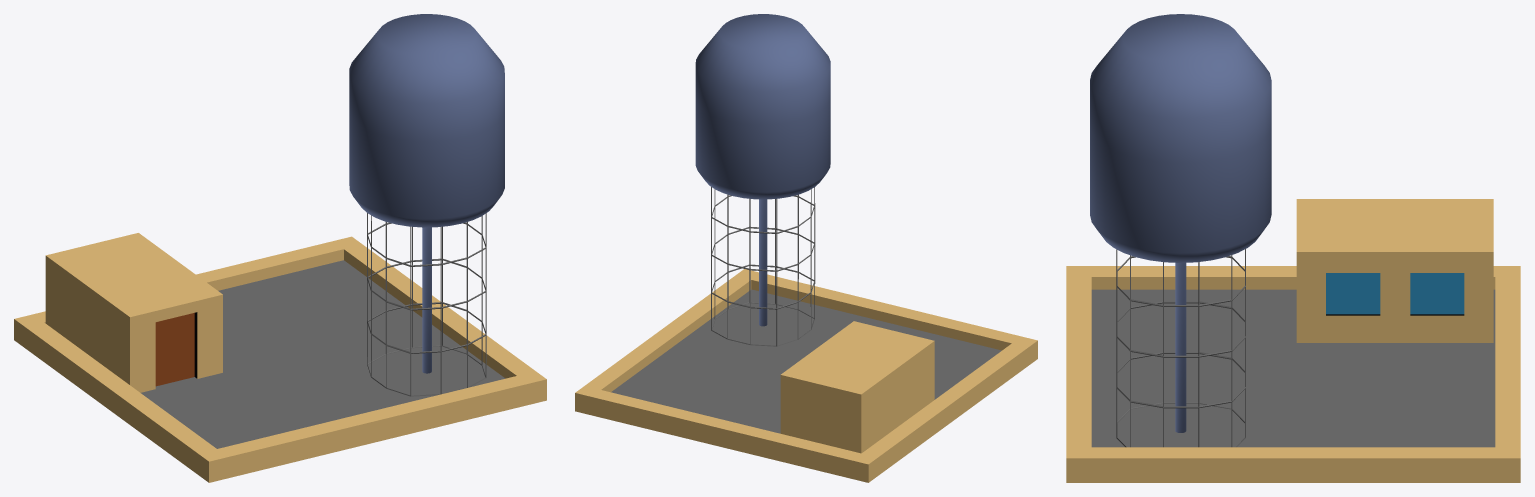
The model's file is Starter Scene.glb.
3 views of the same model, side by side, from view 1: azimuth 30°, elevation 25°; view 2: azimuth 150°, elevation 25°; view 3: azimuth 270°, elevation 25° (orthographic). The views are drawn at different scales.
Parts seen in each view (by area): view 1: Building; view 2: Building; view 3: Building.
Boxes of the visible parts, x1,y1,x2,y2 form: Building: [14, 14, 546, 482]; Building: [575, 14, 1037, 482]; Building: [1066, 14, 1520, 482].
Size of the model in its own units: 23.62 by 23.18 by 23.62.
